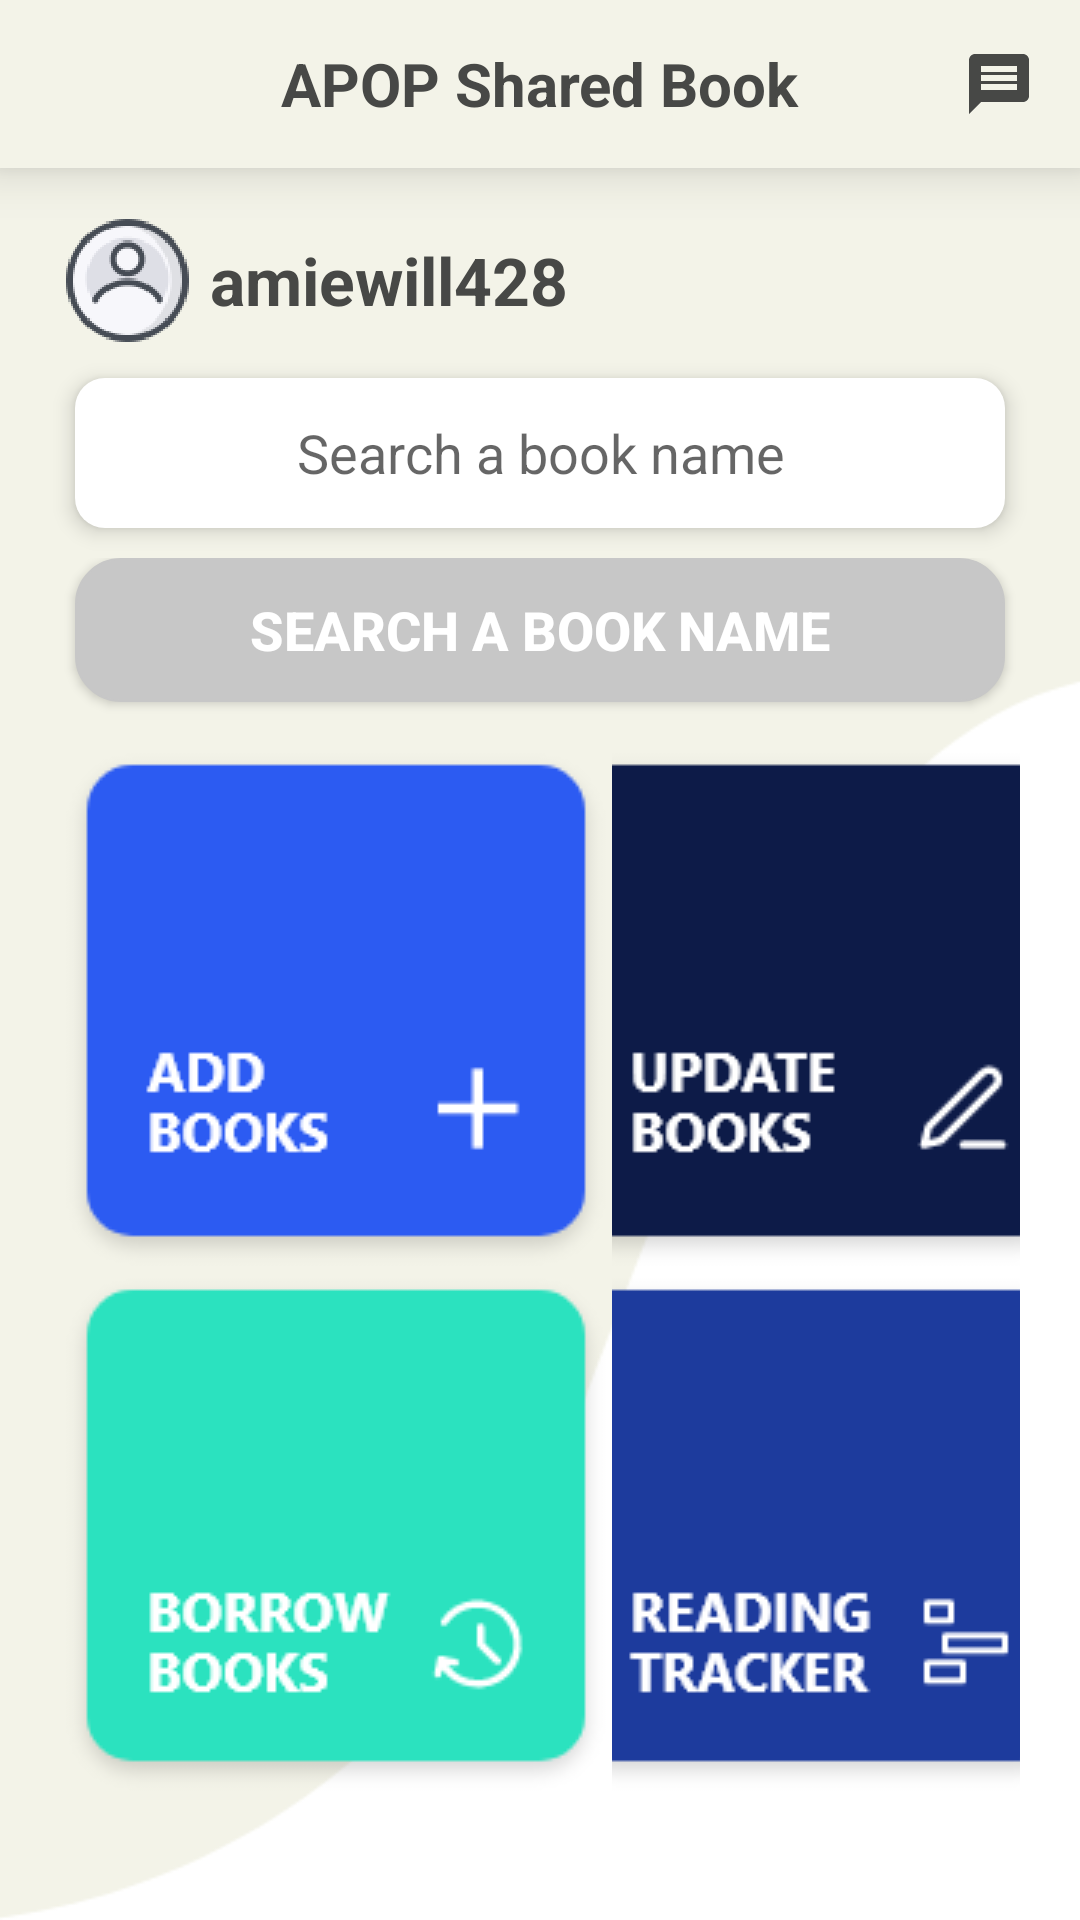

Screen size 1080px×1920px. Icon name, then its center in pixels as (x,y):
message: (999,84)
user profile: (127,280)
